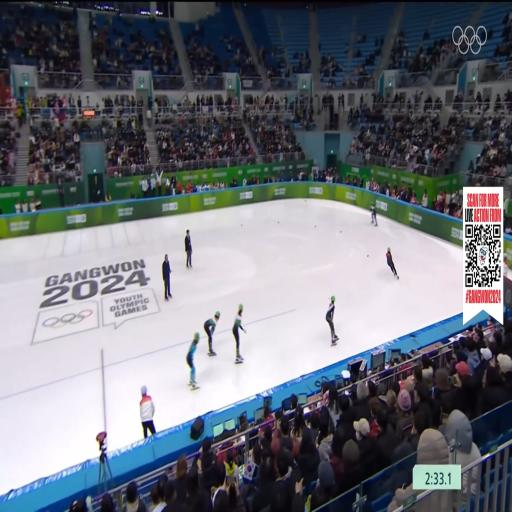Skater: (232, 304, 246, 363), (204, 312, 220, 356), (187, 333, 199, 389), (326, 296, 338, 346), (387, 248, 399, 279), (369, 201, 378, 227)
